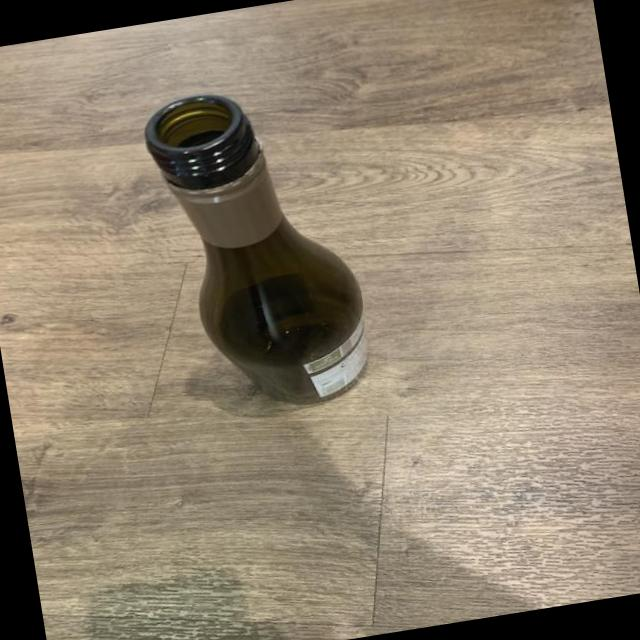BotolKaca: (137, 72, 379, 423)
